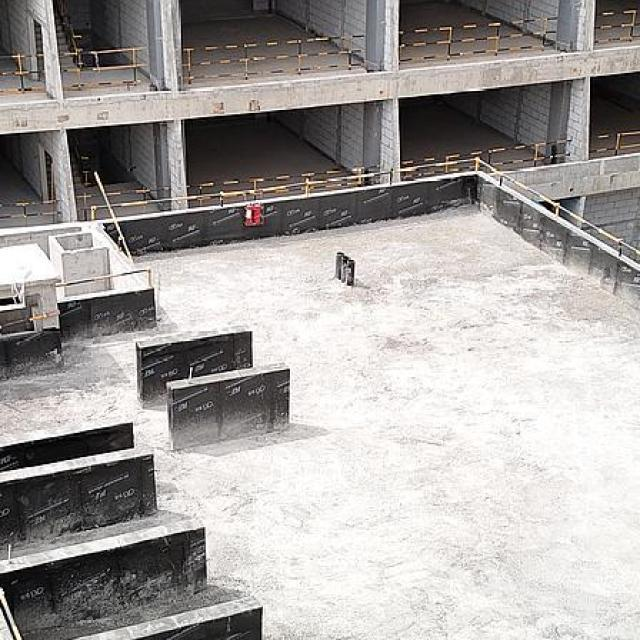Guardrail: (88, 159, 640, 259), (183, 34, 364, 85), (401, 137, 572, 180), (399, 17, 557, 62), (187, 165, 382, 192), (59, 46, 150, 90), (92, 171, 134, 259), (54, 267, 153, 290), (591, 7, 640, 47), (0, 54, 47, 95), (0, 196, 61, 222), (74, 186, 169, 200), (588, 129, 640, 154)
